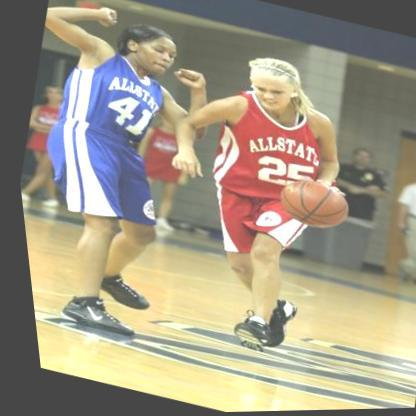basketball: (267, 174, 351, 238)
